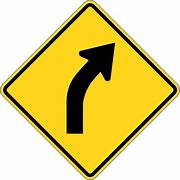right: (2, 1, 179, 180)
